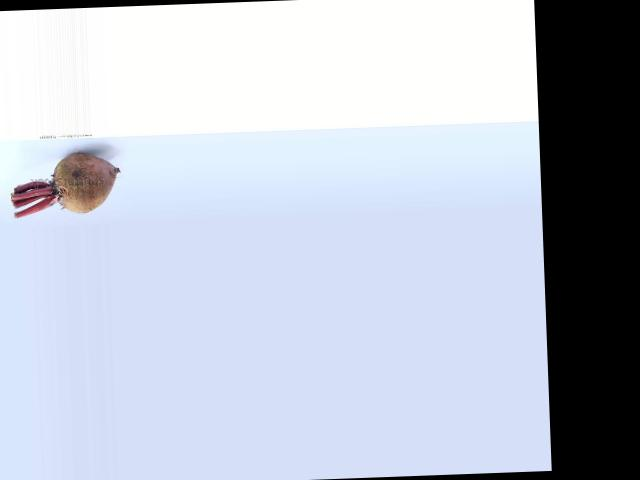beet: (11, 152, 120, 216)
